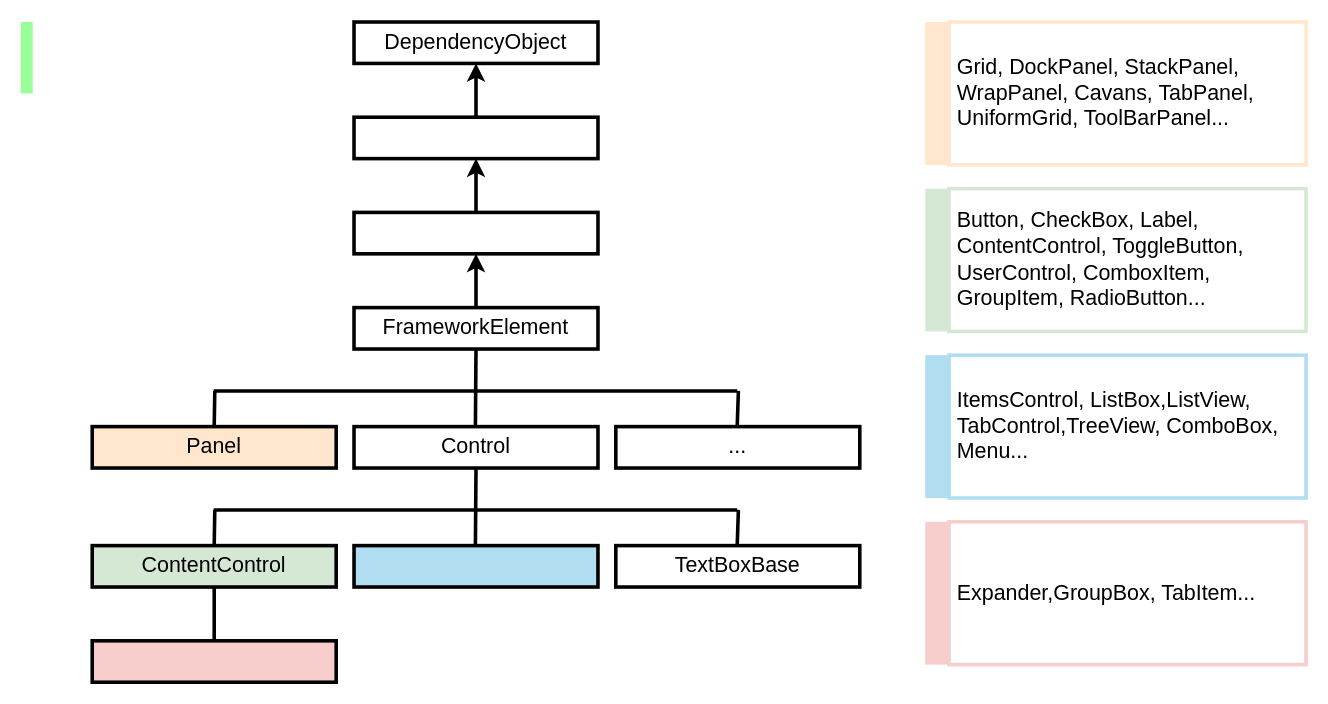
Some shapes in this 1328 by 704 pixel diagram are drawn without their labels. Here are the shapes that lost their labels. From the top down, the centre of each, then its label:
(157,57): WPF控件图示
(475,137): Visual
(475,232): UIElement
(475,565): ItemsControl
(213,660): HeaderedContentControl
